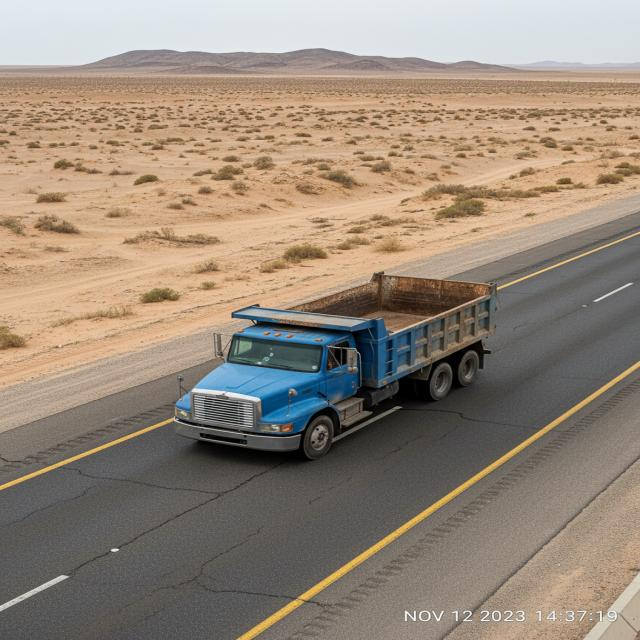Box: (223, 270, 492, 337)
Truck: (162, 253, 534, 461)
